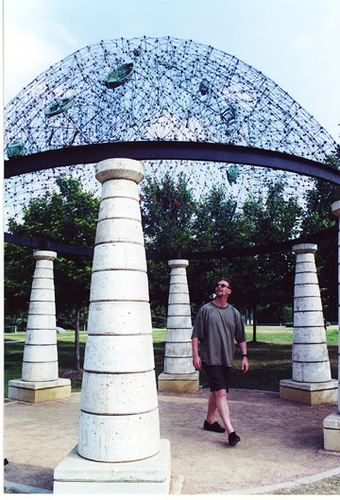head: (215, 278, 232, 298)
person: (185, 272, 253, 447)
